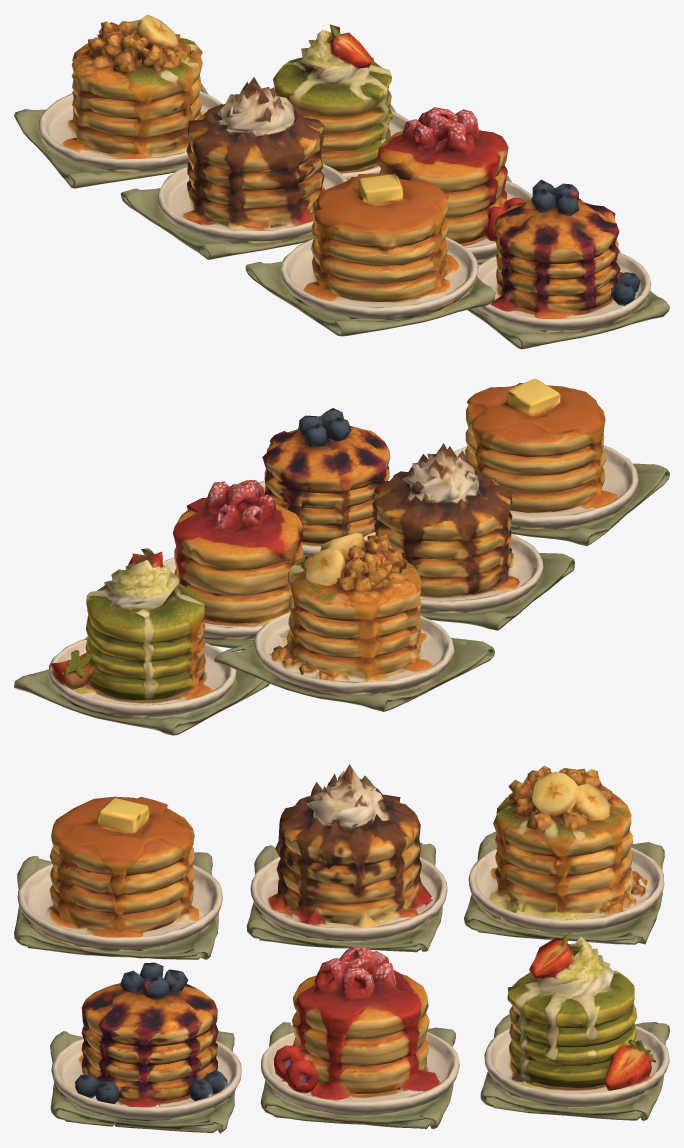
File: cute_pancake_stacks_3d_model.glb
The picture shows the model from 3 angles, top to bottom: view 1: azimuth 30°, elevation 25°; view 2: azimuth 150°, elevation 25°; view 3: azimuth 270°, elevation 25°; orthographic projection. The views are drawn at different scales.
Parts seen in each view (by area): view 1: tripo_node_900b827f-46d0-43ad-be44-05e019da7c0b_0; view 2: tripo_node_900b827f-46d0-43ad-be44-05e019da7c0b_0; view 3: tripo_node_900b827f-46d0-43ad-be44-05e019da7c0b_0.
Part boxes in pixels (x1=…): tripo_node_900b827f-46d0-43ad-be44-05e019da7c0b_0: x1=14, y1=14, x2=669, y2=349; tripo_node_900b827f-46d0-43ad-be44-05e019da7c0b_0: x1=14, y1=378, x2=669, y2=735; tripo_node_900b827f-46d0-43ad-be44-05e019da7c0b_0: x1=14, y1=764, x2=669, y2=1133.
Size of the model in its own units: 0.7695 by 0.3682 by 1.
1 material, 1 textured.
